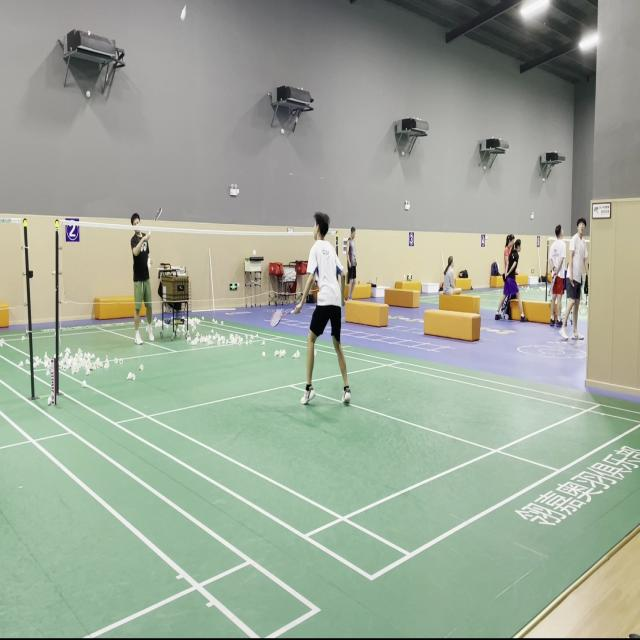shuttlecock: (180, 4, 187, 20)
